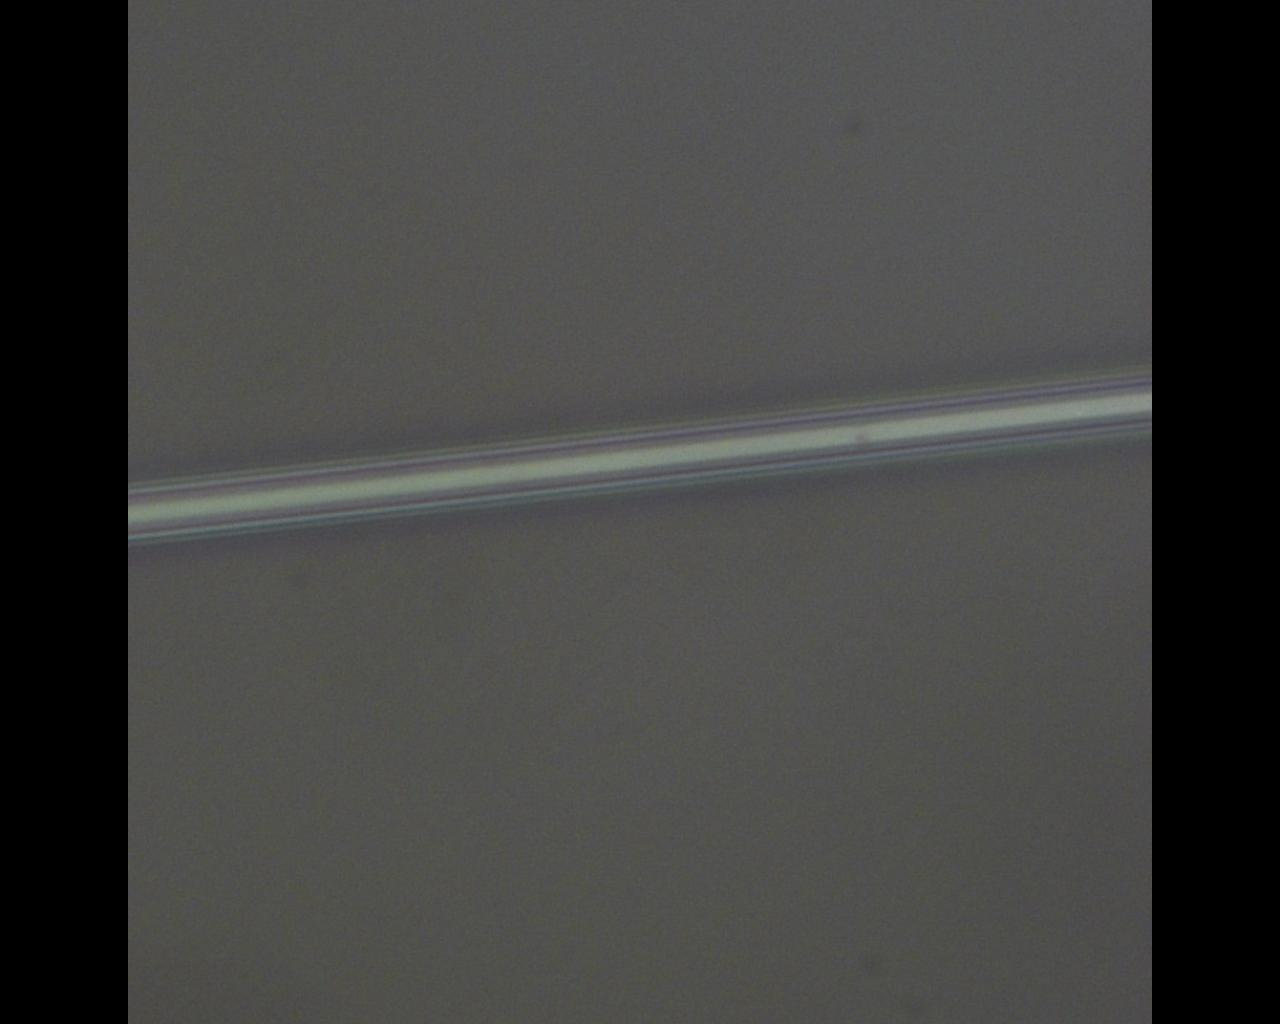fiber: (128, 380, 1152, 993)
